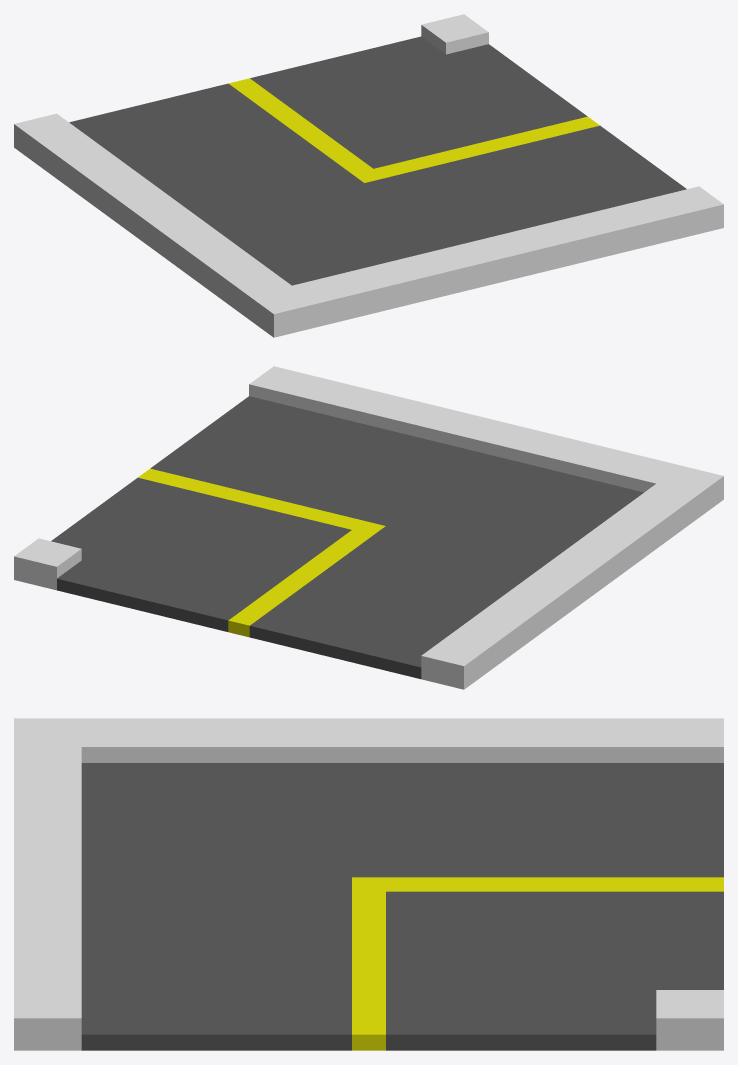
File: road2.fbx
3 renders of one model, top to bottom at view 1: azimuth 30°, elevation 25°; view 2: azimuth 150°, elevation 25°; view 3: azimuth 270°, elevation 25°, orthographic. The views are drawn at different scales.
Visible parts, largest first — view 1: road2; view 2: road2; view 3: road2.
Part boxes in pixels (x1,y1,x2,y2): road2: (14,14,723,337); road2: (14,366,723,689); road2: (14,718,723,1050).
Bounding box in the file's own units: 20 × 1 × 20.
